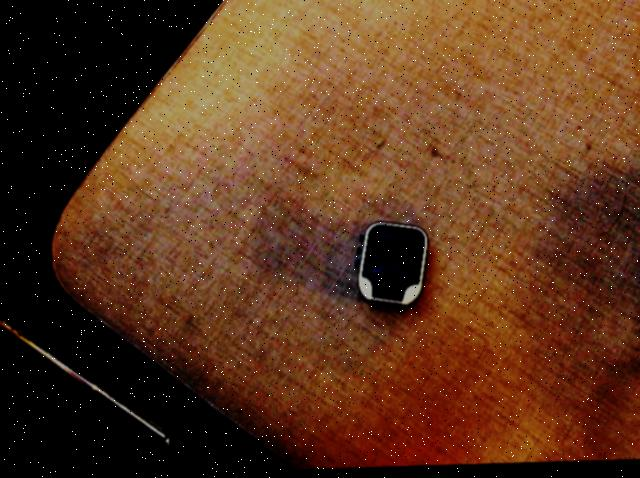adapter: (354, 222, 428, 310)
